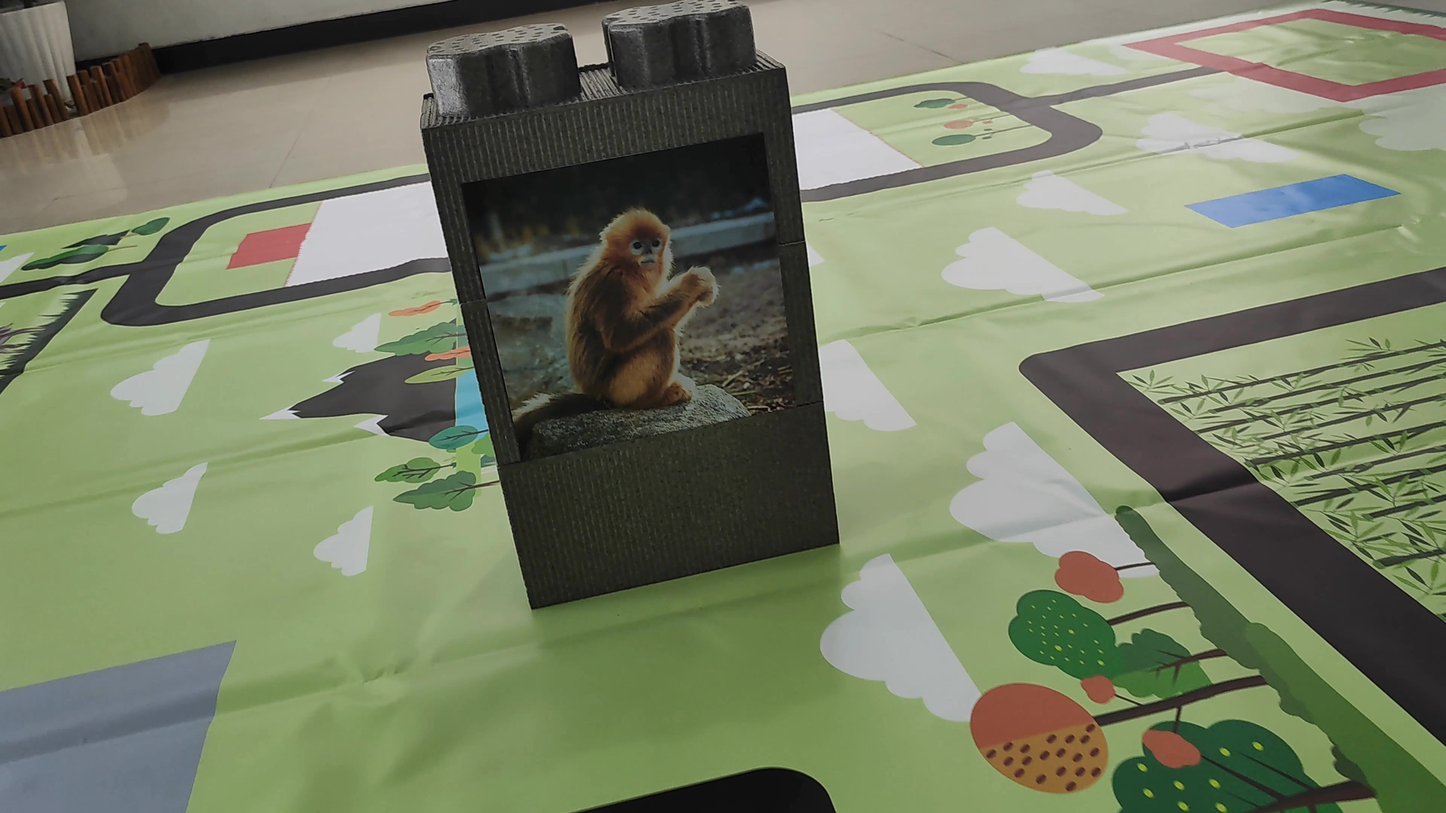monkey: (485, 199, 749, 439)
